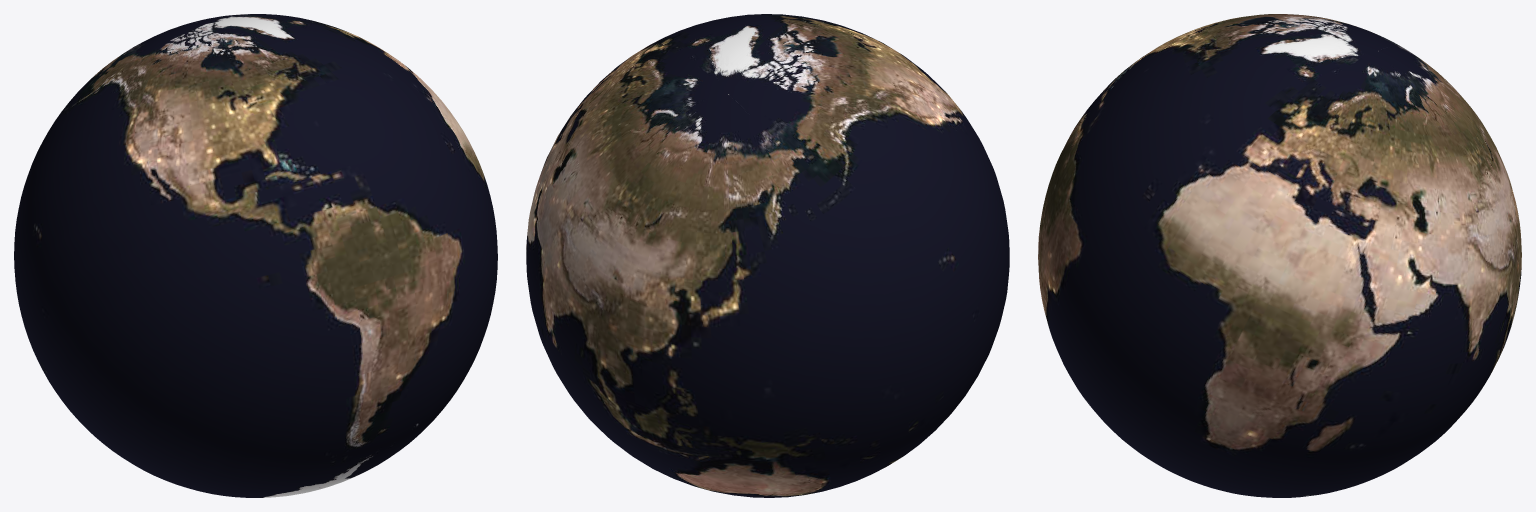
The model's file is earth-transformed.glb.
The picture shows the model from 3 angles, left to right: view 1: azimuth 30°, elevation 25°; view 2: azimuth 150°, elevation 25°; view 3: azimuth 270°, elevation 25°; orthographic projection.
Parts seen in each view (by area): view 1: Clouds_3; view 2: Clouds_3; view 3: Clouds_3.
Part boxes in pixels (box(x1,y1,x2,y2)): Clouds_3: box(14, 14, 497, 497); Clouds_3: box(526, 14, 1009, 497); Clouds_3: box(1038, 14, 1521, 497).
Size of the model in its own units: 0.6377 by 0.6381 by 0.6378.
Materials: 2 (1 with a texture image).
